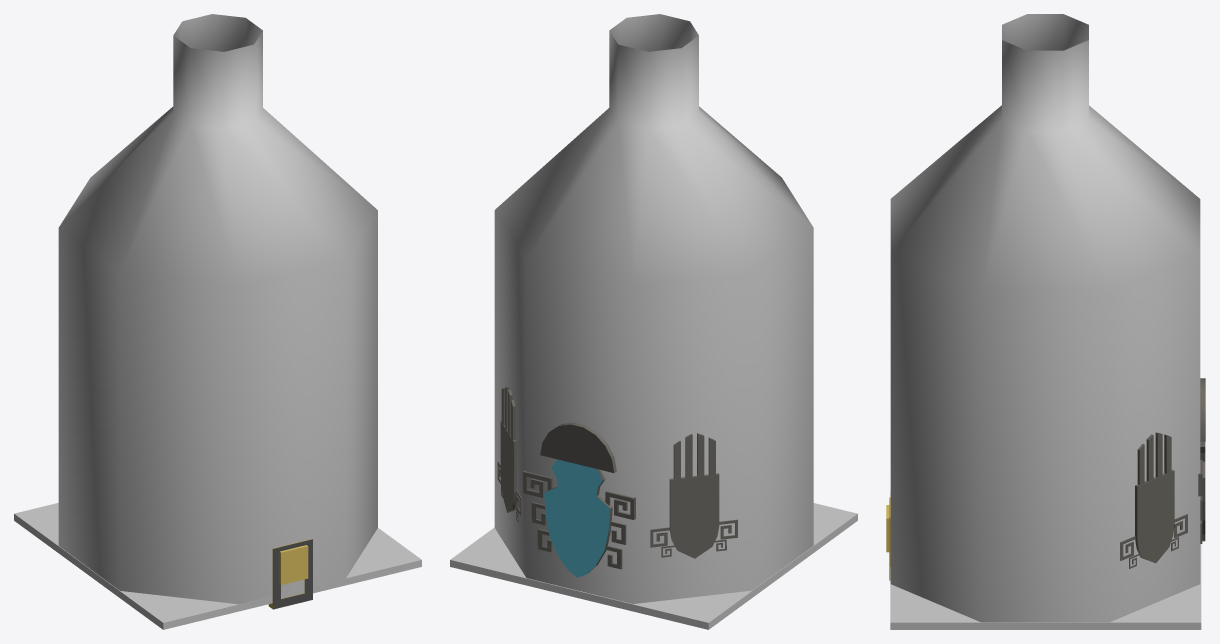
3 views of the same model, side by side, from view 1: azimuth 30°, elevation 25°; view 2: azimuth 150°, elevation 25°; view 3: azimuth 270°, elevation 25° (orthographic). The views are drawn at different scales.
Visible parts, largest first — view 1: IDP_lvl_muur:Mesh, pCube2, IDP_lvl_door:Mesh, pCube3; view 2: IDP_lvl_muur:Mesh, pCube2, pCube13, boss1, pCylinder2, boss2; view 3: IDP_lvl_muur:Mesh, pCube2, boss2, pCylinder2.
Boxes of the visible parts, <box> form: IDP_lvl_muur:Mesh: <box>58,14,377,604</box>; pCube2: <box>14,503,421,629</box>; IDP_lvl_door:Mesh: <box>268,539,312,609</box>; pCube3: <box>279,545,308,584</box>; IDP_lvl_muur:Mesh: <box>494,14,813,603</box>; pCube2: <box>450,503,857,629</box>; pCube13: <box>544,459,612,577</box>; boss1: <box>669,473,737,558</box>; pCylinder2: <box>537,422,635,569</box>; boss2: <box>497,421,516,512</box>; IDP_lvl_muur:Mesh: <box>890,14,1200,622</box>; pCube2: <box>890,491,1201,629</box>; boss2: <box>1120,469,1174,568</box>; pCylinder2: <box>1200,378,1205,543</box>.
Bounding box in the file's own units: 37.77 × 72.14 × 38.84.
